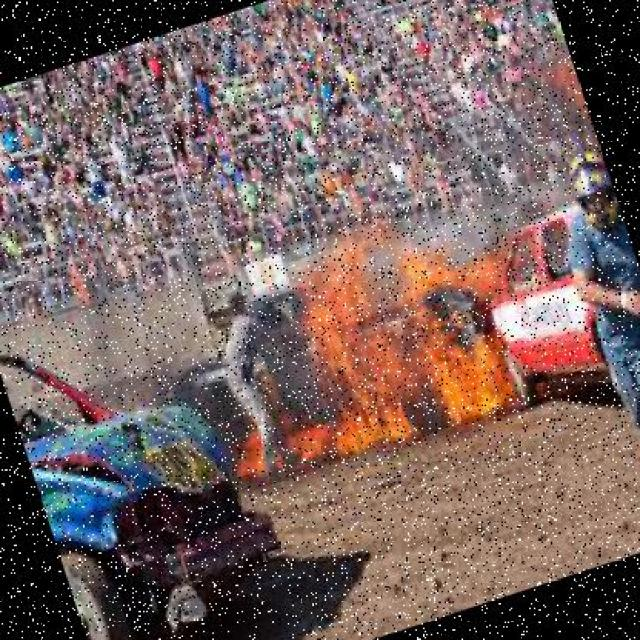fire: (283, 202, 545, 470), (214, 382, 349, 506)
